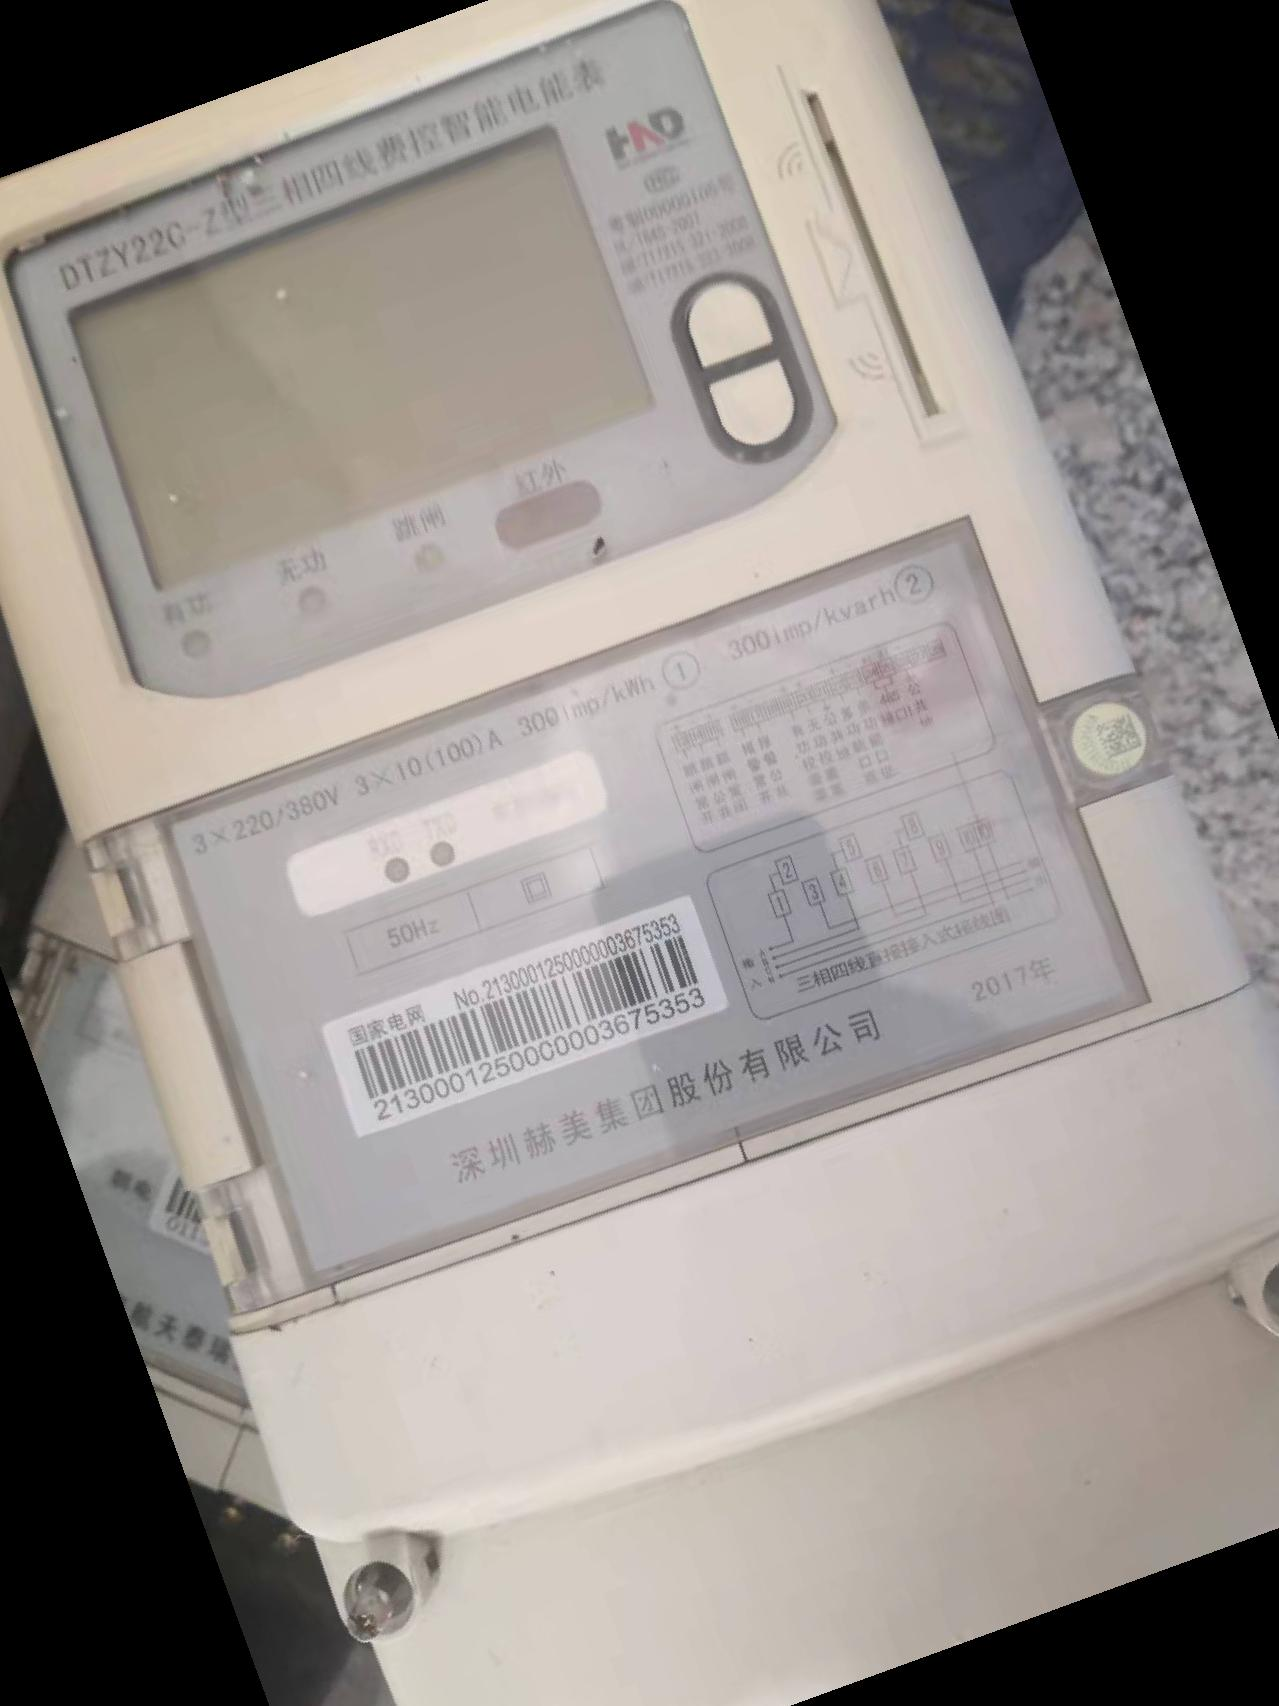digital: (1, 1, 1270, 1538)
